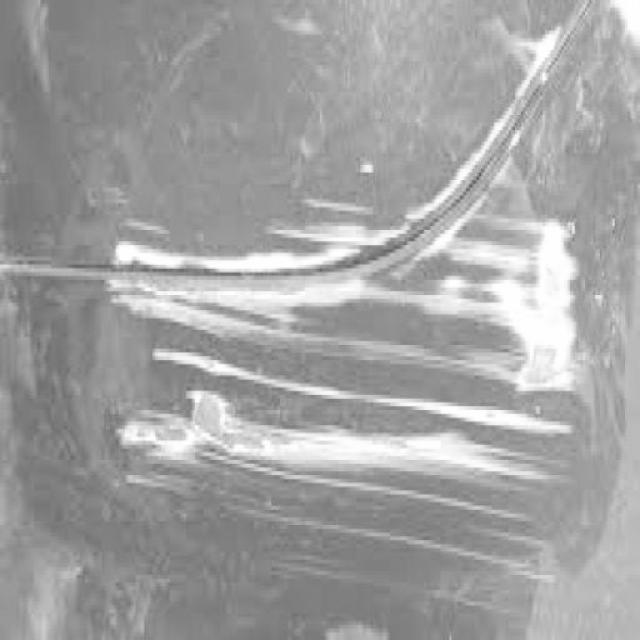car damage: (108, 27, 583, 598)
